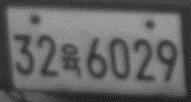0: (109, 37, 130, 80)
2: (133, 37, 157, 82), (36, 34, 58, 78)
3: (12, 33, 35, 76)
6: (85, 36, 108, 80)
9: (156, 37, 179, 83)
육: (59, 41, 82, 79)
